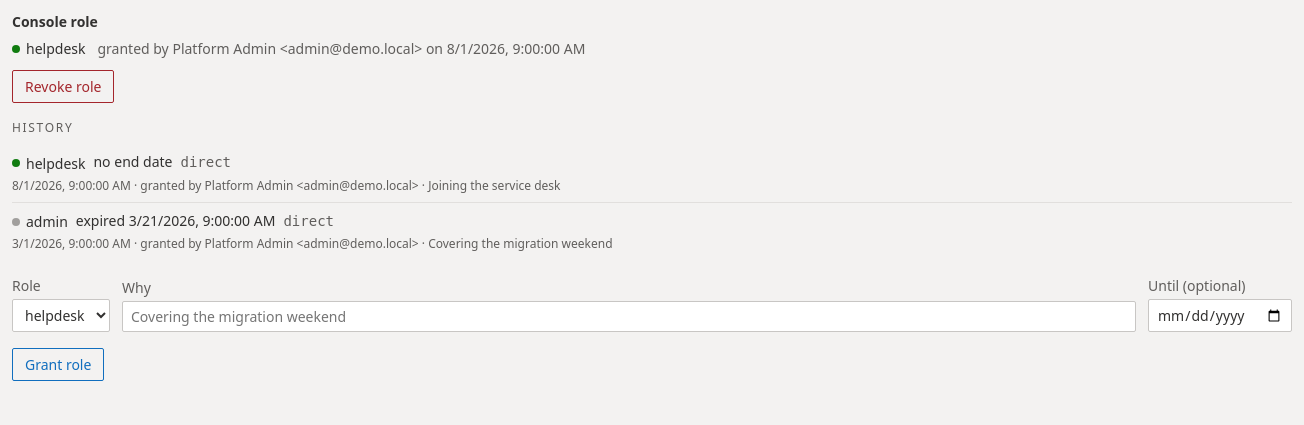
cancelling a revoke does nothing
The image size is (1304, 425).
Click the button "Revoke role" at (63, 86), box [12,70,114,103]
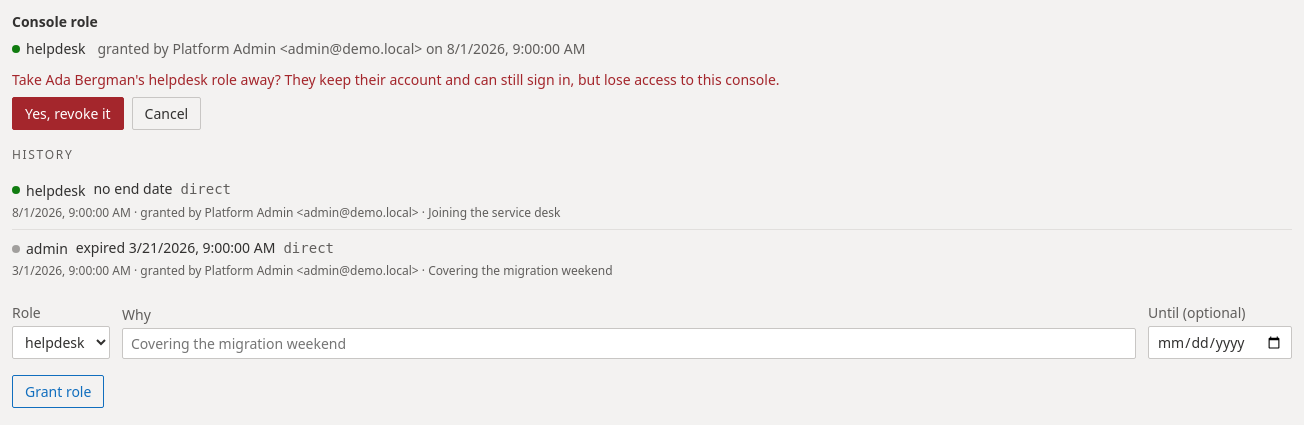
Click the button "Cancel" at (166, 114), box [132,97,201,130]
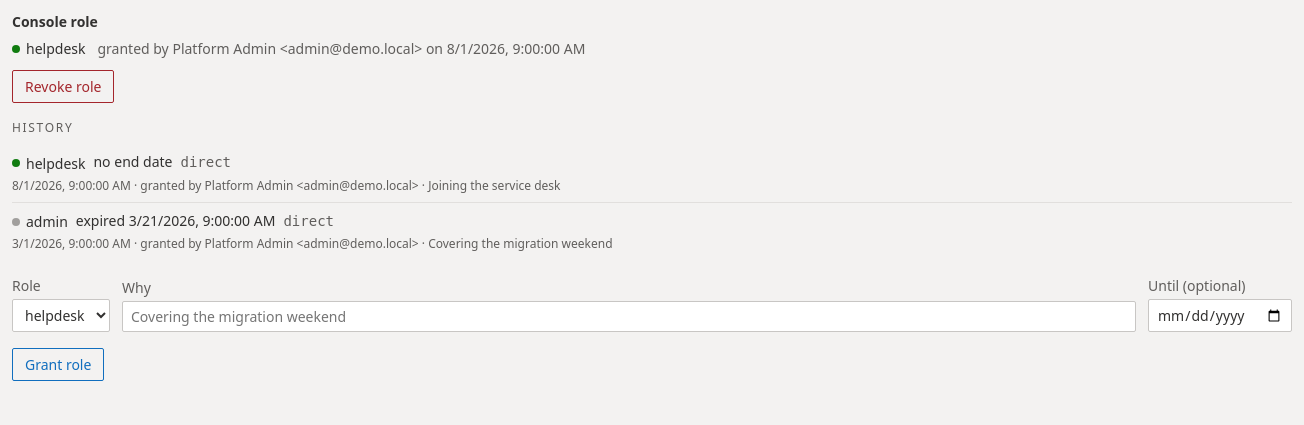
Check: the button "Revoke role" is shown, box [12,70,114,103]
